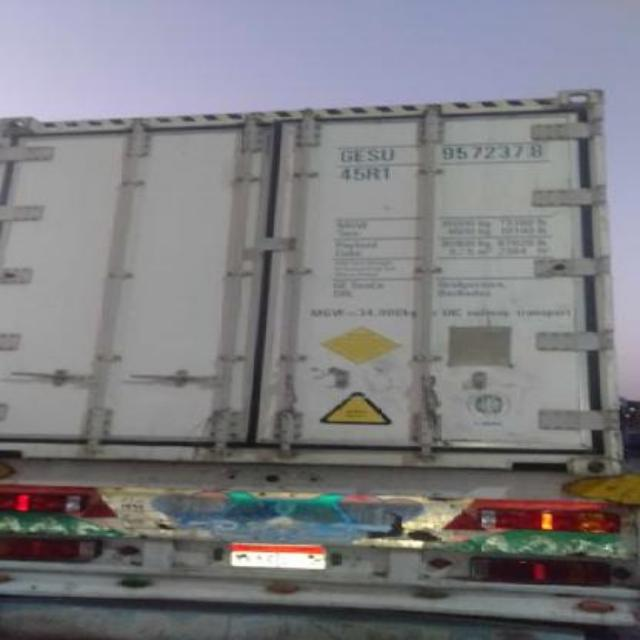2: (484, 141, 496, 161)
3: (496, 140, 512, 162)
5: (454, 144, 466, 160)
7: (508, 138, 526, 160), (468, 142, 484, 162)
8: (526, 138, 552, 160)
9: (438, 145, 454, 161)
E: (354, 145, 366, 165)
G: (338, 147, 354, 167)
S: (366, 145, 382, 163)
U: (380, 145, 398, 165)
